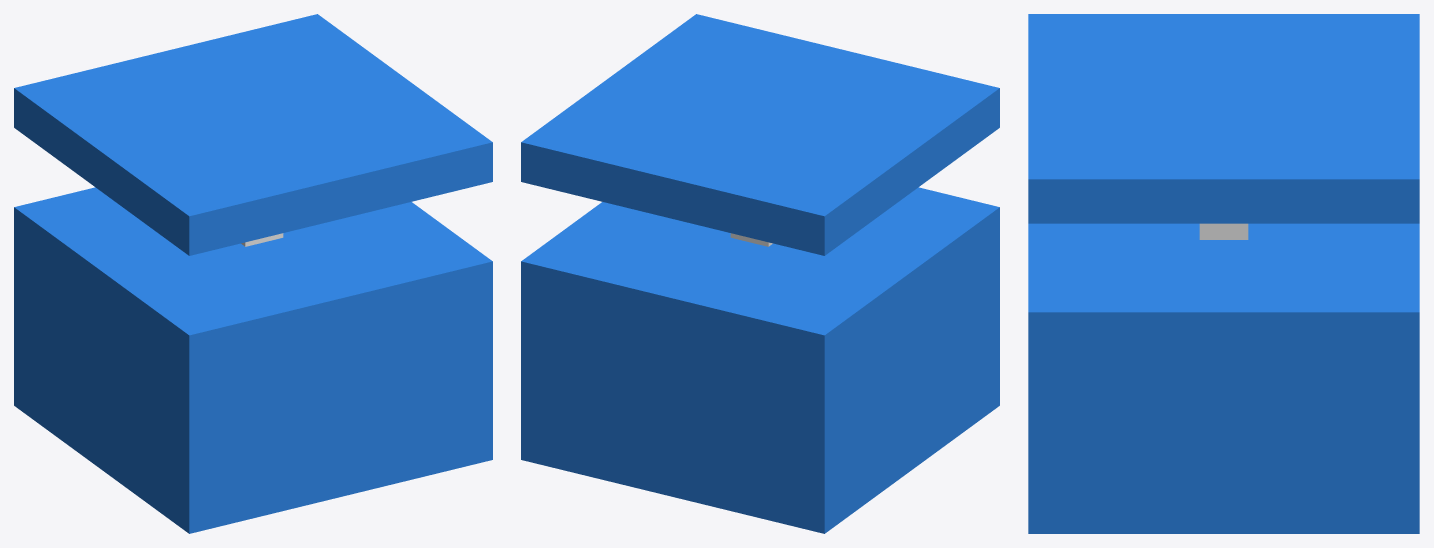
Rendered from cube-bounce.glb.
3 views of the same model, side by side, from view 1: azimuth 30°, elevation 25°; view 2: azimuth 150°, elevation 25°; view 3: azimuth 270°, elevation 25° (orthographic). The views are drawn at different scales.
Visible parts, largest first — view 1: cube-bounce; view 2: cube-bounce; view 3: cube-bounce.
Part boxes in pixels (bbox=[...]): cube-bounce: bbox=[14, 14, 492, 533]; cube-bounce: bbox=[521, 14, 999, 533]; cube-bounce: bbox=[1028, 14, 1419, 533].
Size of the model in its own units: 1 by 1 by 1.
Materials: 1 (1 with a texture image).
